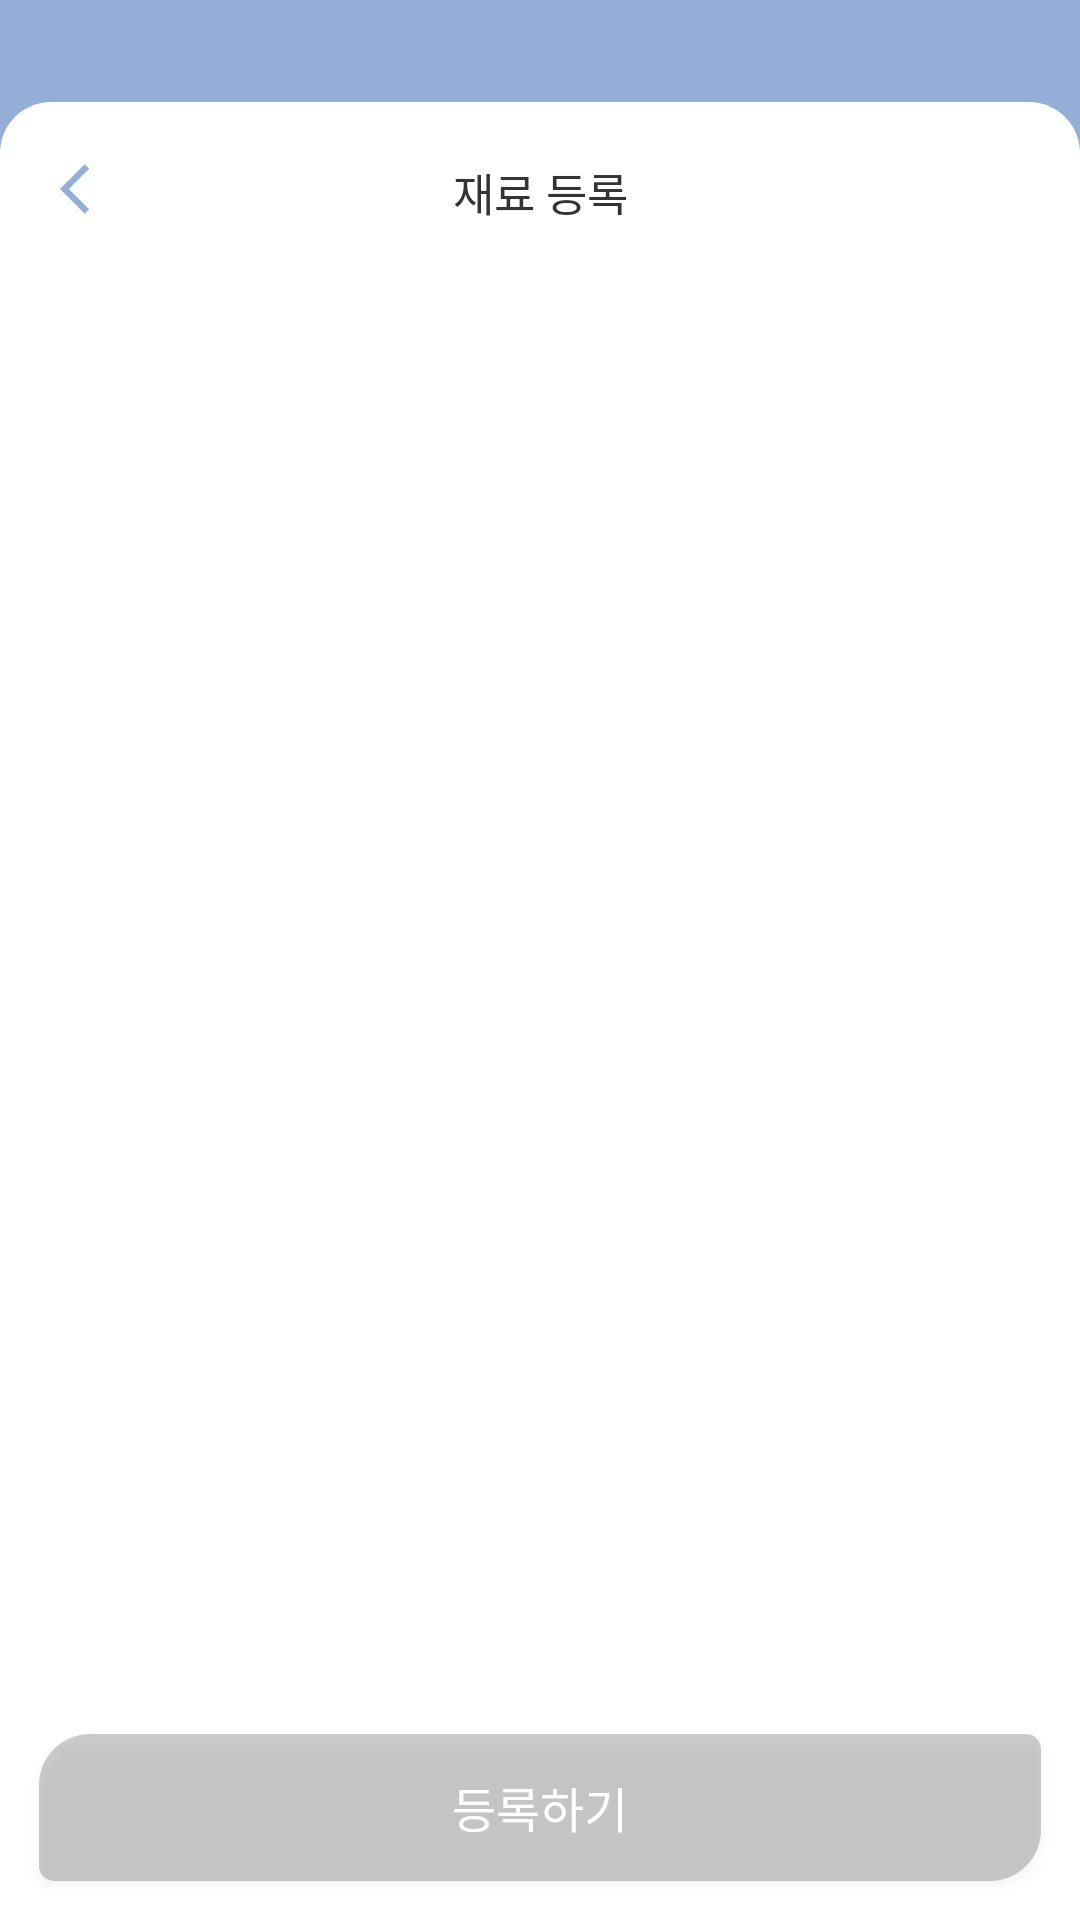

Point at icon controls on the screen. Image size 1080 × 1920, points as (x,y).
arrow back: (74,189)
